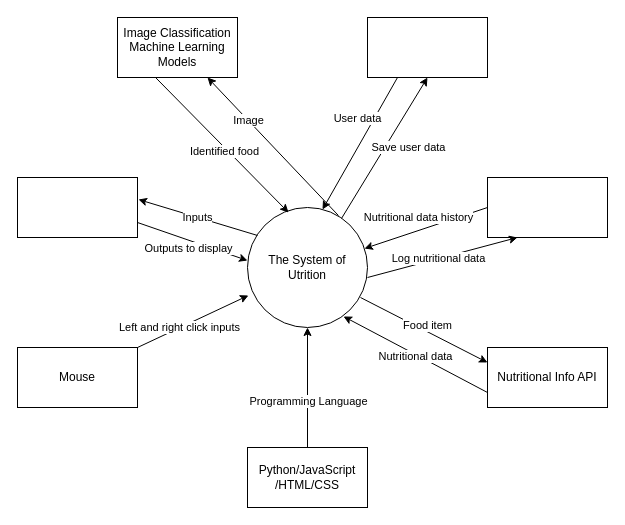
Some shapes in this 625 by 525 pixel diagram are drawn without their labels. The shapes that lost their labels are listed below. From the top down, each one's box as (x1, y1, x2, y2) in pixels, then its label:
(366, 16, 488, 78): User Profile Settings Log
(16, 176, 138, 238): Graphical User Interface (GUI)
(486, 176, 608, 238): Nutrition Database
